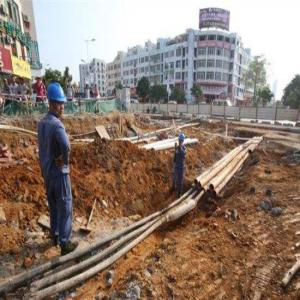blue: (47, 82, 66, 119), (180, 134, 186, 146)
